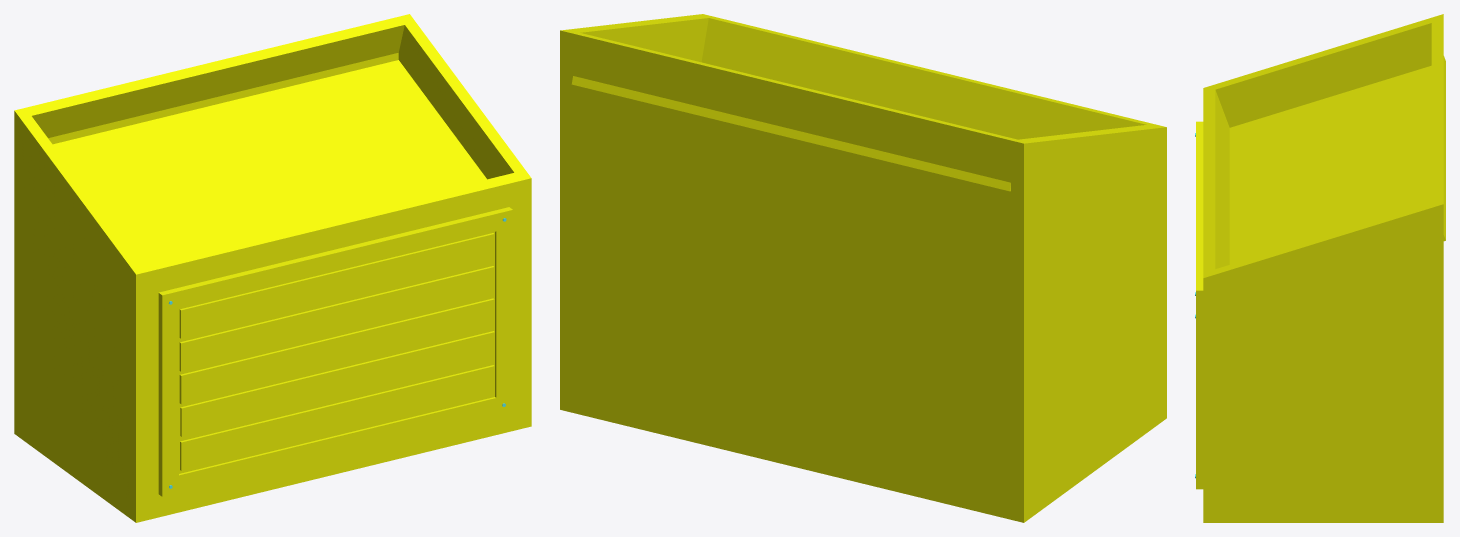
The model's file is Fruit_shelves.dae.
3 views of the same model, side by side, from view 1: azimuth 30°, elevation 25°; view 2: azimuth 150°, elevation 25°; view 3: azimuth 270°, elevation 25° (orthographic). The views are drawn at different scales.
Visible parts, largest first — view 1: SketchUp (×9); view 2: SketchUp (×2); view 3: SketchUp (×3).
Boxes of the visible parts, box(x1,y1,x2,y2) form: SketchUp (×9): box(14, 14, 531, 522); SketchUp (×2): box(560, 14, 1166, 522); SketchUp (×3): box(1196, 14, 1445, 522).
Size of the model in its own units: 60 by 33.45 by 46.89.
